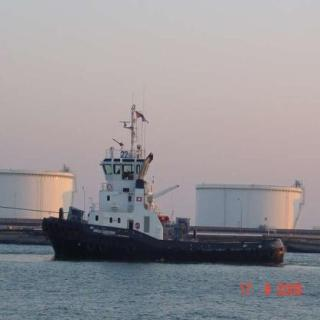Tug Boat: (40, 134, 286, 260)
